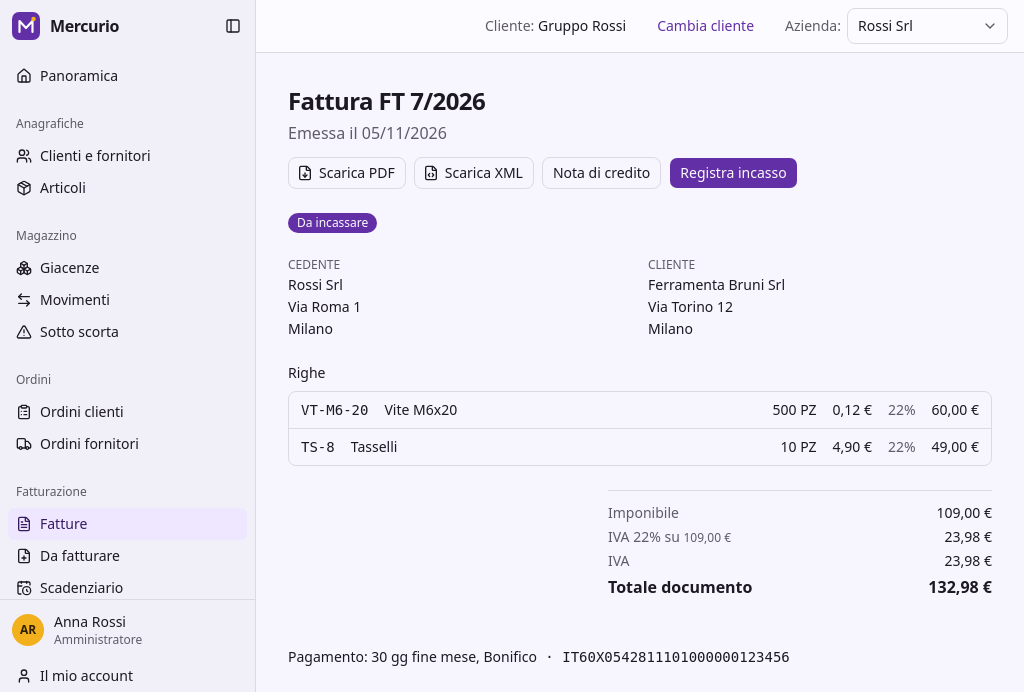
Test: invoicing › downloads the FatturaPA file, and says what is missing when the API refuses it
The image size is (1024, 692).
Click the button "Scarica XML" at (474, 173), box [414,157,534,189]
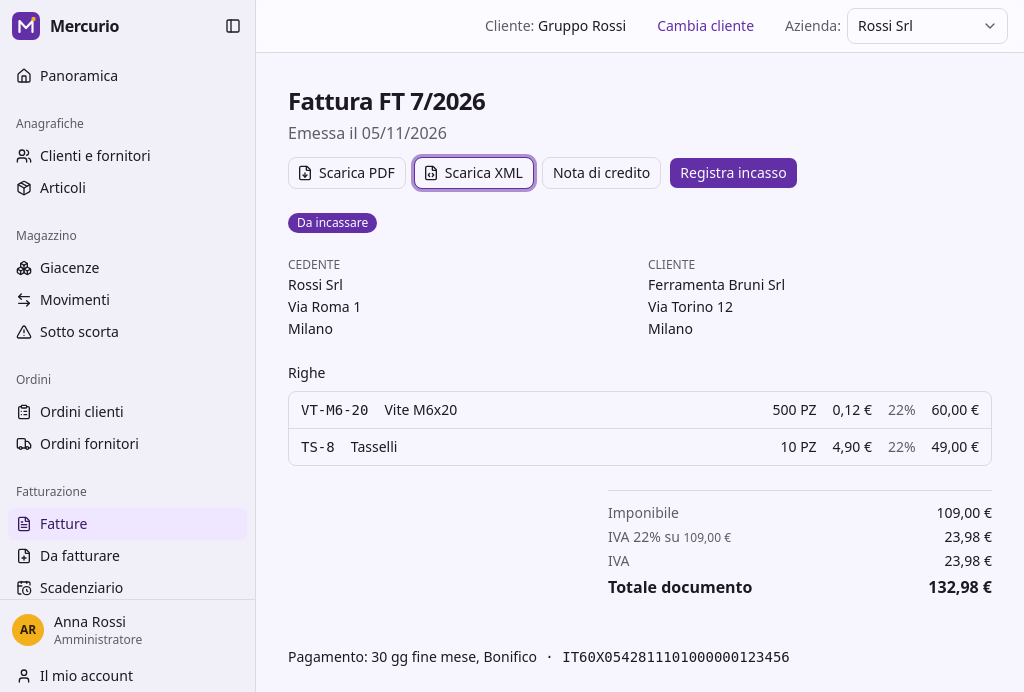
Click the button "Scarica XML" at (474, 173), box [414,157,534,189]
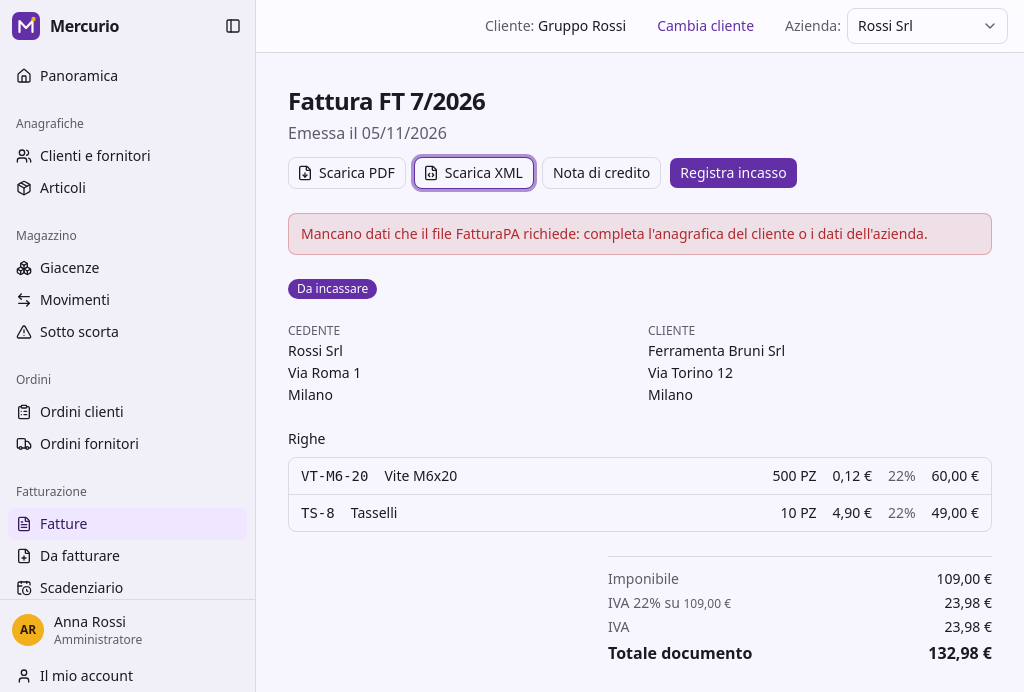
Expected: the text "Mancano dati che il file FatturaPA richiede" is shown, [301,224,928,243]
